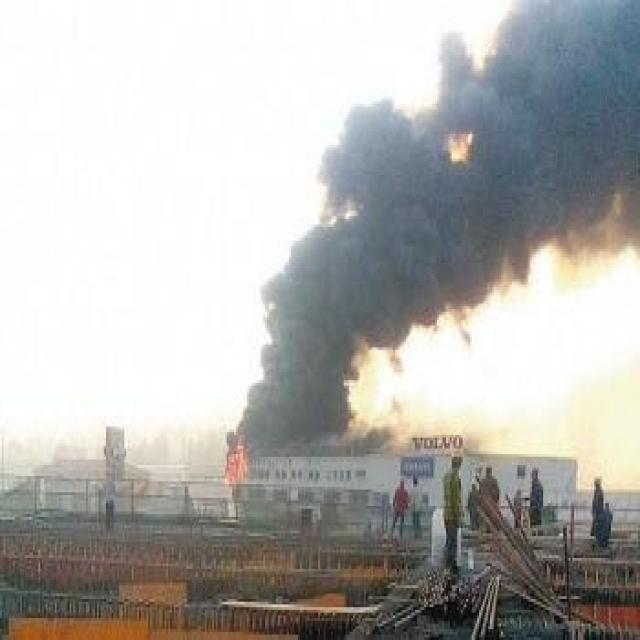Fire: (223, 431, 249, 484)
Smoke: (225, 0, 640, 436)
